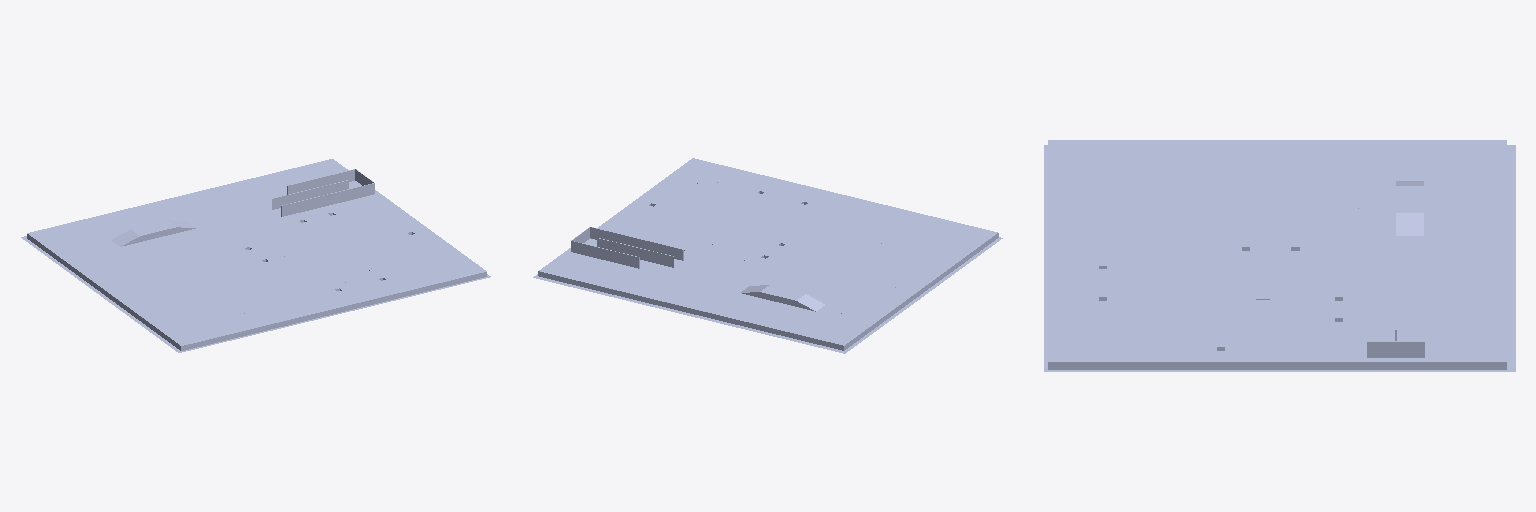
The robot description file, URDF, robot "final_arena_urdf":
<?xml version="1.0" encoding="utf-8"?>
<!-- This URDF was automatically created by SolidWorks to URDF Exporter! Originally created by [author] ([email redacted]) 
     Commit Version: 1.5.1-0-g916b5db  Build Version: 1.5.7152.31018
     For more information, please see http://wiki.ros.org/sw_urdf_exporter -->
<robot
  name="final_arena_urdf">
  <link
    name="arena">
    <inertial>
      <origin
        xyz="3.9803 2.9843 6.2913"
        rpy="0 0 0" />
      <mass
        value="7400.8" />
      <inertia
        ixx="30213"
        ixy="-2.6186"
        ixz="-94.045"
        iyy="69541"
        iyz="38.433"
        izz="39355" />
    </inertial>
    <visual>
      <origin
        xyz="0 0 0"
        rpy="0 0 0" />
      <geometry>
        <mesh
          filename="package://final_arena_urdf/meshes/final_arena.dae" />
      </geometry>
      <material
        name="">
        <color
          rgba="0.79216 0.81961 0.93333 1" />
      </material>
    </visual>
    <collision>
      <origin
        xyz="0 0 0"
        rpy="0 0 0" />
      <geometry>
        <mesh
          filename="package://final_arena_urdf/meshes/final_arena.dae" />
      </geometry>
    </collision>
  </link>
</robot>

--- Render facts (derived) ---
3 views of the same robot in one strip: view 1: azimuth 30°, elevation 25°; view 2: azimuth 150°, elevation 25°; view 3: azimuth 270°, elevation 25° (orthographic).
Robot: final_arena_urdf — 1 links, 0 joints (none); root link arena; default pose: all joints at 0.
Visible links, largest first — view 1: arena; view 2: arena; view 3: arena.
Link boxes in pixels (x1=…): arena: x1=21, y1=159, x2=490, y2=352; arena: x1=533, y1=158, x2=1002, y2=353; arena: x1=1044, y1=140, x2=1515, y2=371.
Bounding box of the posed robot: 8.18 × 7.18 × 0.4116 m (x, y, z).
Meshes: 1 distinct files referenced, 1 mesh visuals loaded (1 Collada DAE).